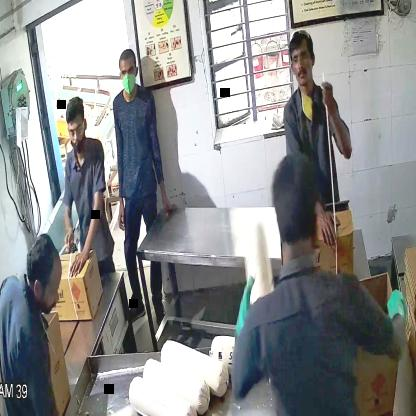goggles: (64, 121, 87, 142)
no_goggles: (288, 48, 314, 67), (118, 63, 138, 80)
